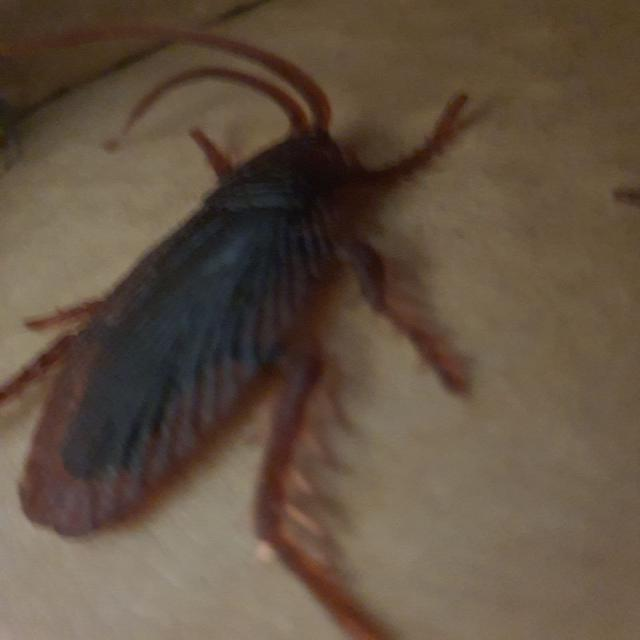Cockroach: (7, 28, 462, 640)
